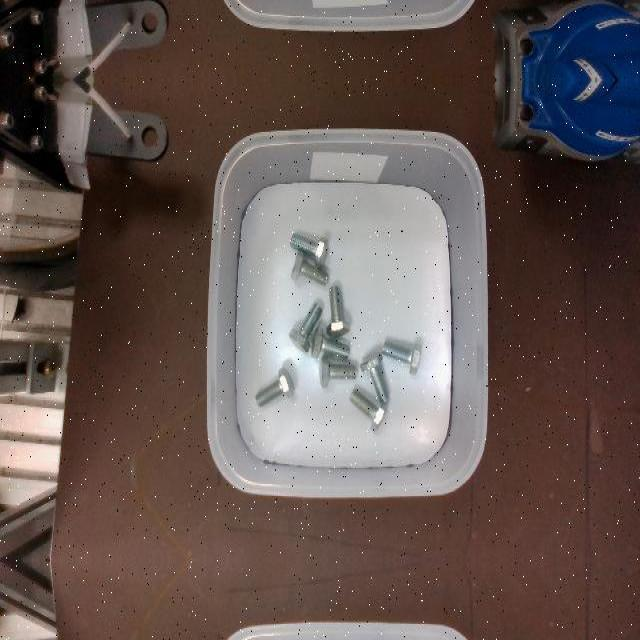screw: (349, 389, 387, 433), (289, 303, 322, 353), (360, 351, 389, 405), (255, 367, 294, 407), (381, 340, 421, 374), (291, 250, 328, 286), (289, 232, 327, 266), (311, 325, 349, 359), (326, 285, 349, 337), (320, 355, 357, 387)
